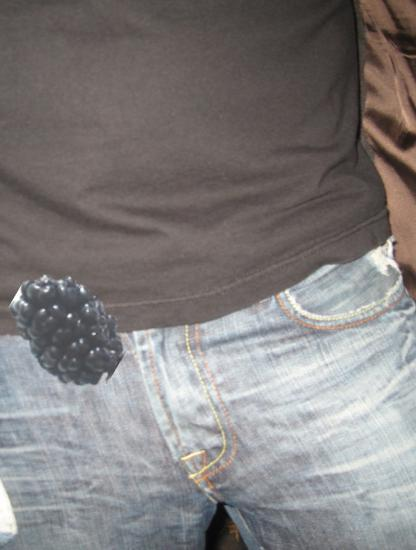Mulberry: (5, 268, 129, 392)
